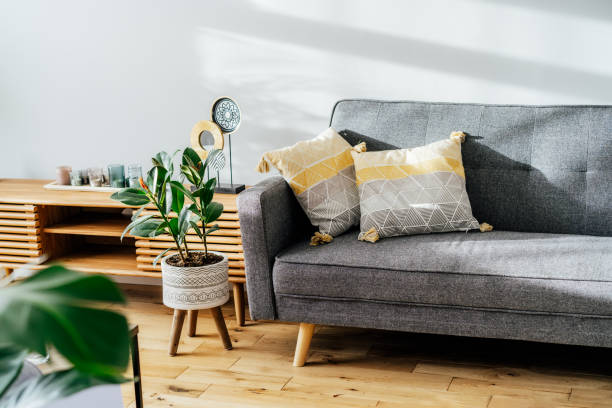small plant: (114, 151, 238, 356)
sofa: (236, 97, 612, 370)
